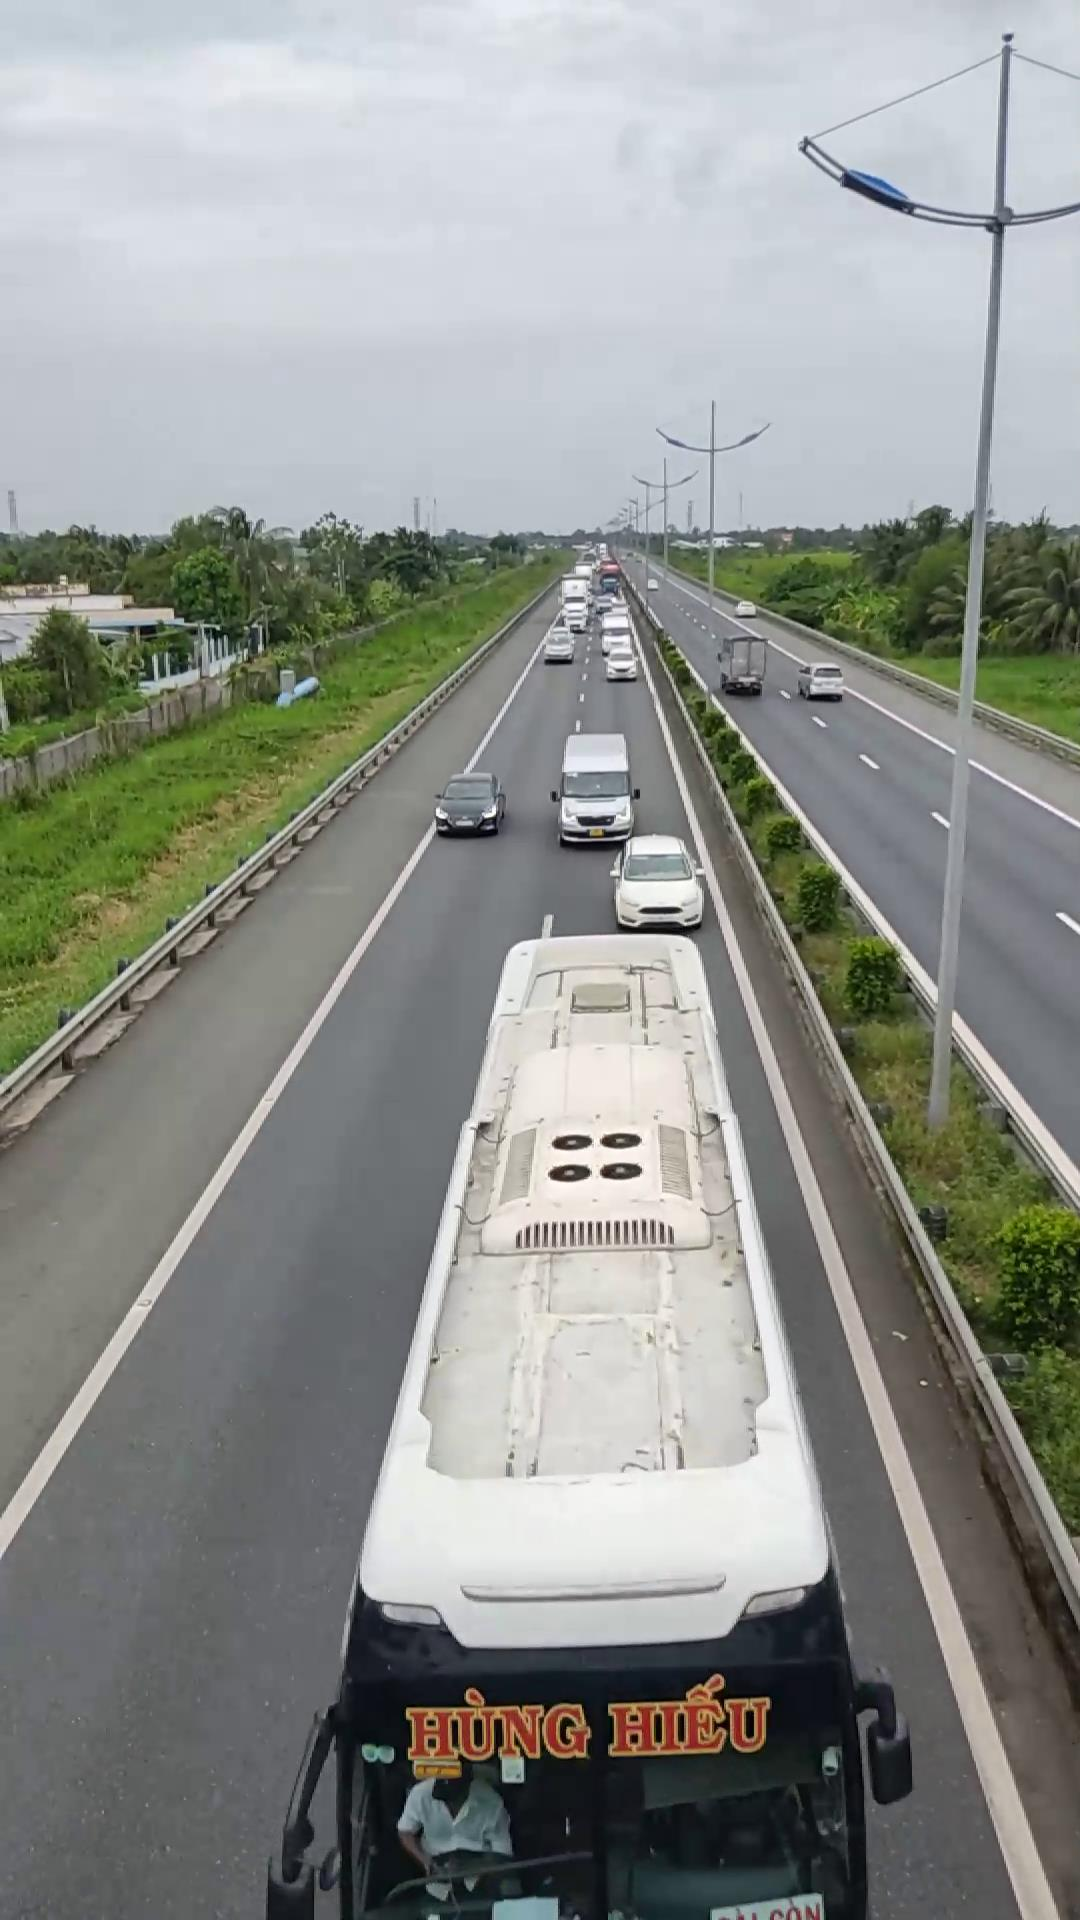bus: (336, 927, 881, 1920)
car: (552, 731, 638, 846), (609, 833, 705, 932), (432, 771, 506, 836)
